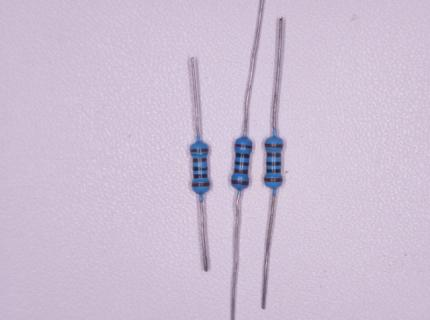Black band: (193, 166, 208, 171), (235, 161, 249, 166), (236, 153, 249, 158), (266, 161, 281, 165), (193, 174, 208, 178), (267, 169, 280, 173)
Brown band: (231, 179, 249, 185), (235, 143, 252, 149), (265, 143, 283, 148), (192, 182, 209, 187), (264, 178, 283, 182), (193, 158, 207, 163), (234, 169, 248, 174), (267, 152, 281, 157), (190, 149, 209, 152)
